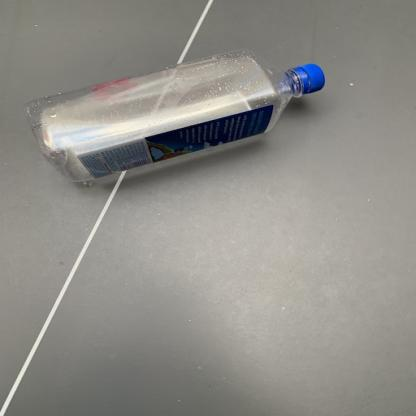trash: (26, 49, 328, 184)
